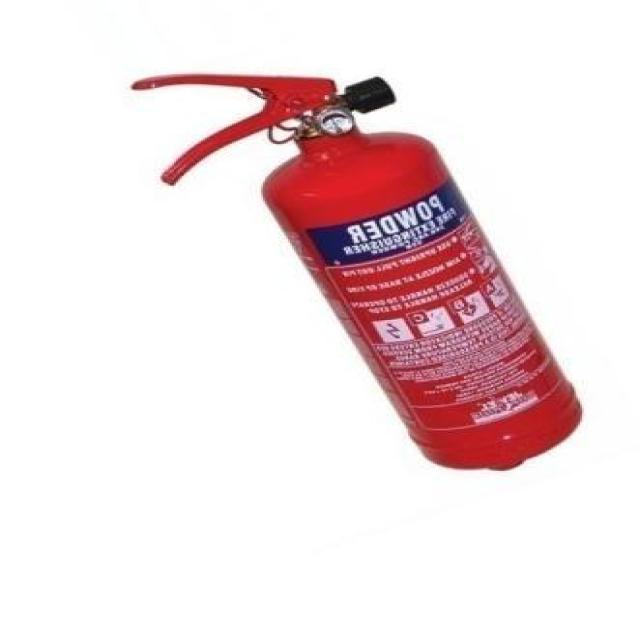fire_extinguisher: (124, 67, 588, 474)
